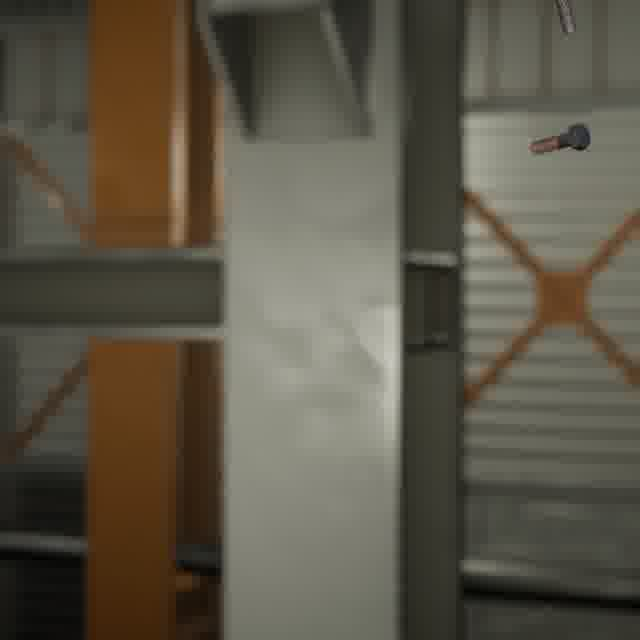bolt: (525, 119, 594, 158), (550, 0, 581, 39)
